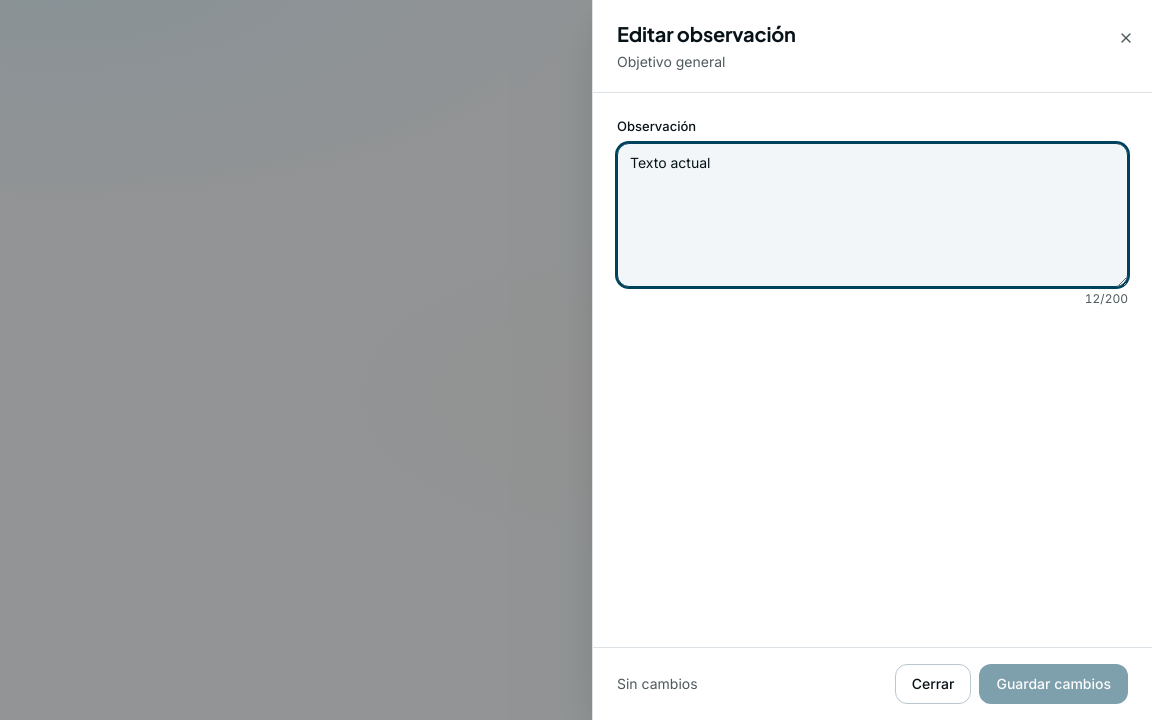
Scenario: EditarObservacionItemPanel › muestra el texto actual, limita a 200 y habilita guardar solo cuando cambia
This screenshot has width=1152, height=720.
Expected: the dialog "Editar observación" is shown, [592, 0, 1151, 719]
Expected: the button "Guardar cambios" is disabled, [980, 664, 1128, 704]
Type " editado" into the text box labelled "Observación". click: (872, 214)
box: [617, 142, 1128, 286]
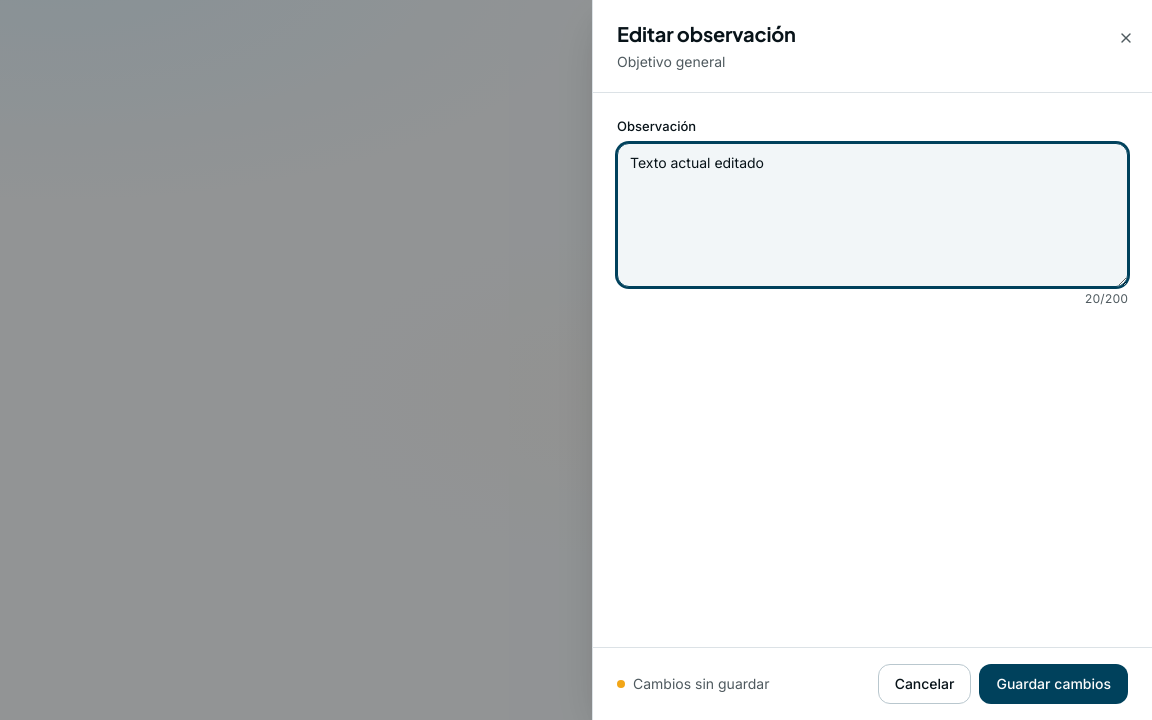
Expected: the button "Guardar cambios" is enabled, [980, 664, 1128, 704]
